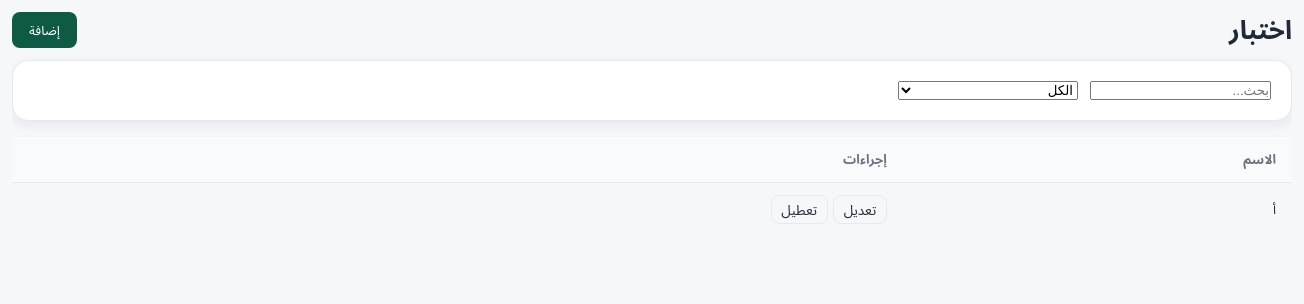
Scenario: ReferenceDataPage › shows only success after deactivate succeeds
The width and height of the screenshot is (1304, 304).
Step 1. Click the button "تعطيل" → (799, 210), box [771, 195, 828, 224]
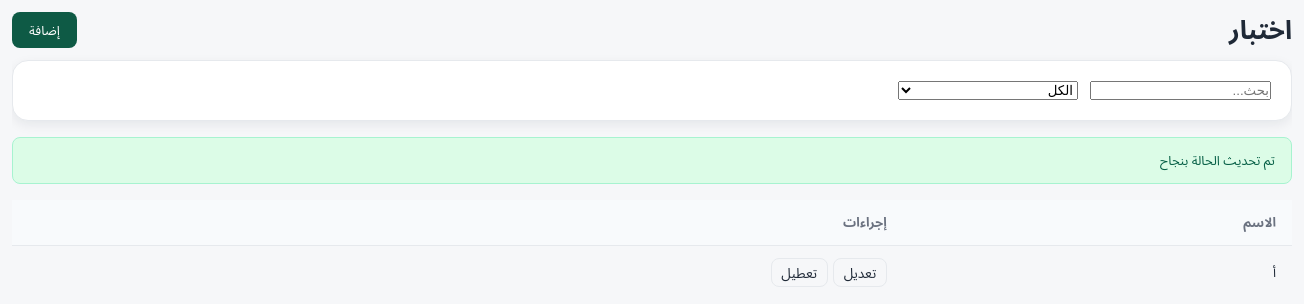
Result: the text "تم تحديث الحالة بنجاح" is shown at [12, 137, 1292, 184]
